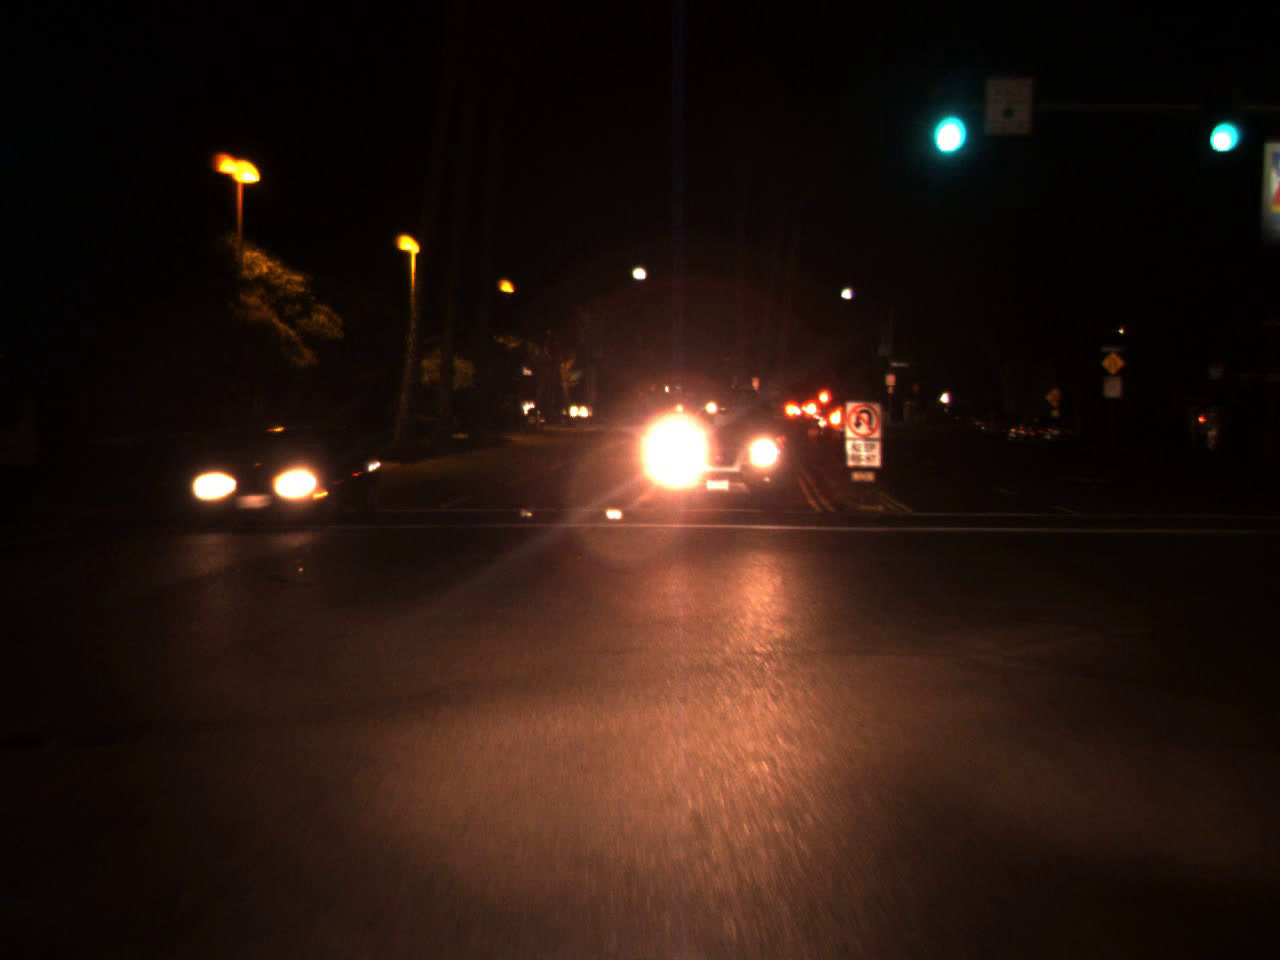go: (925, 79, 966, 166), (1199, 87, 1242, 162)
